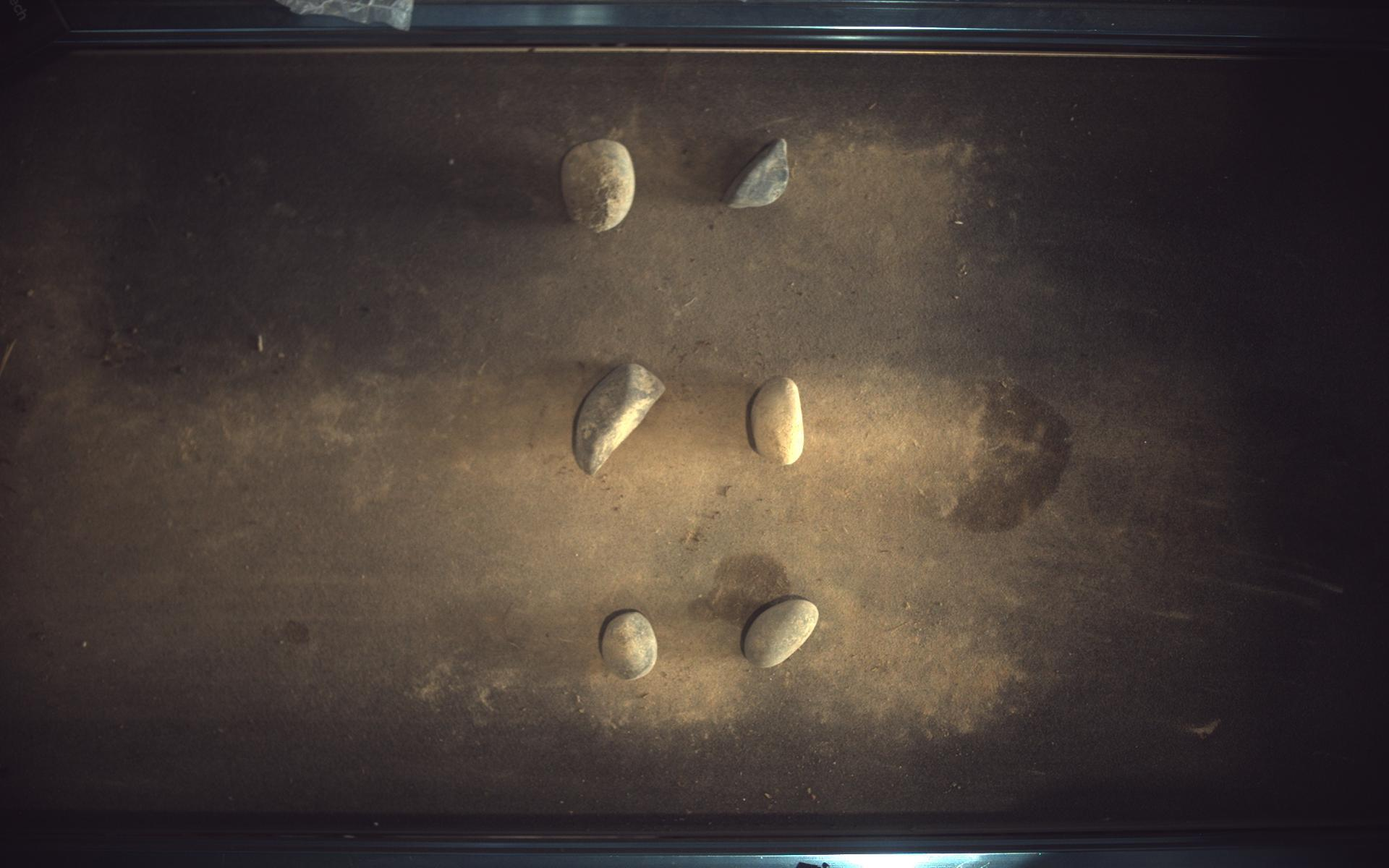stone: (574, 364, 666, 475), (561, 138, 636, 232), (745, 600, 820, 669), (723, 138, 791, 208), (754, 376, 805, 465), (600, 610, 658, 681)
